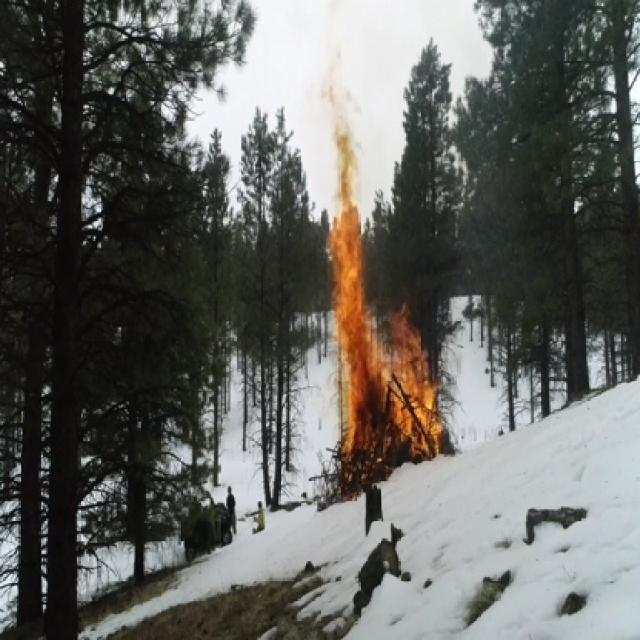Fire: (314, 91, 449, 482)
